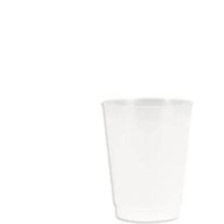glass: (94, 90, 198, 224)
